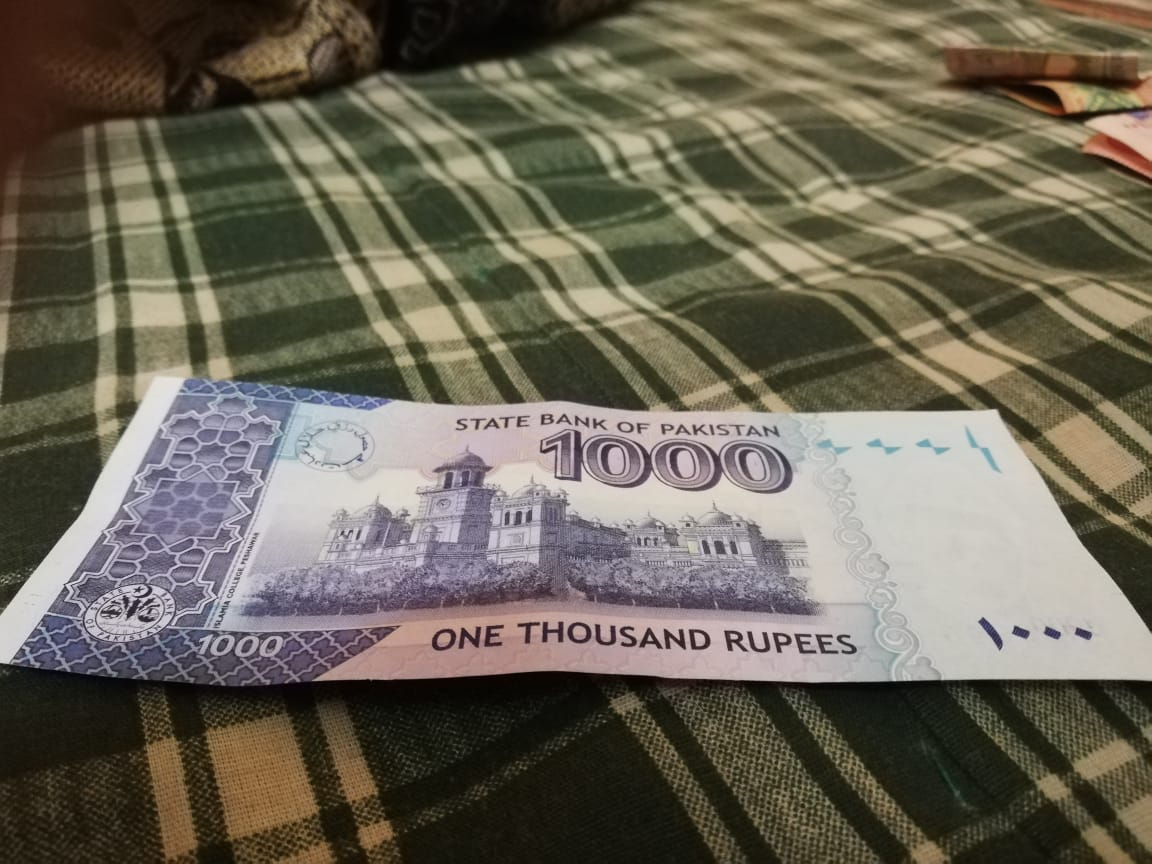1000 rupee: (10, 314, 1146, 770)
